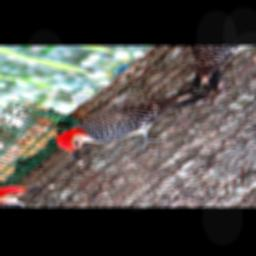Woodpecker: (38, 72, 223, 177)
